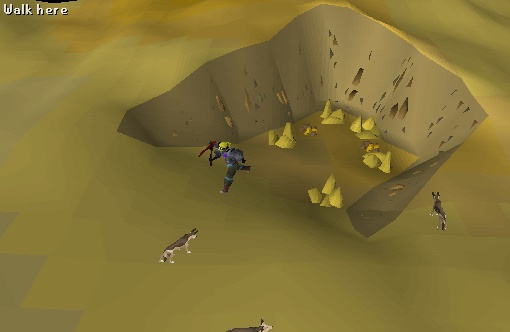gold: (300, 171, 354, 216), (260, 118, 306, 157), (343, 111, 391, 146)
